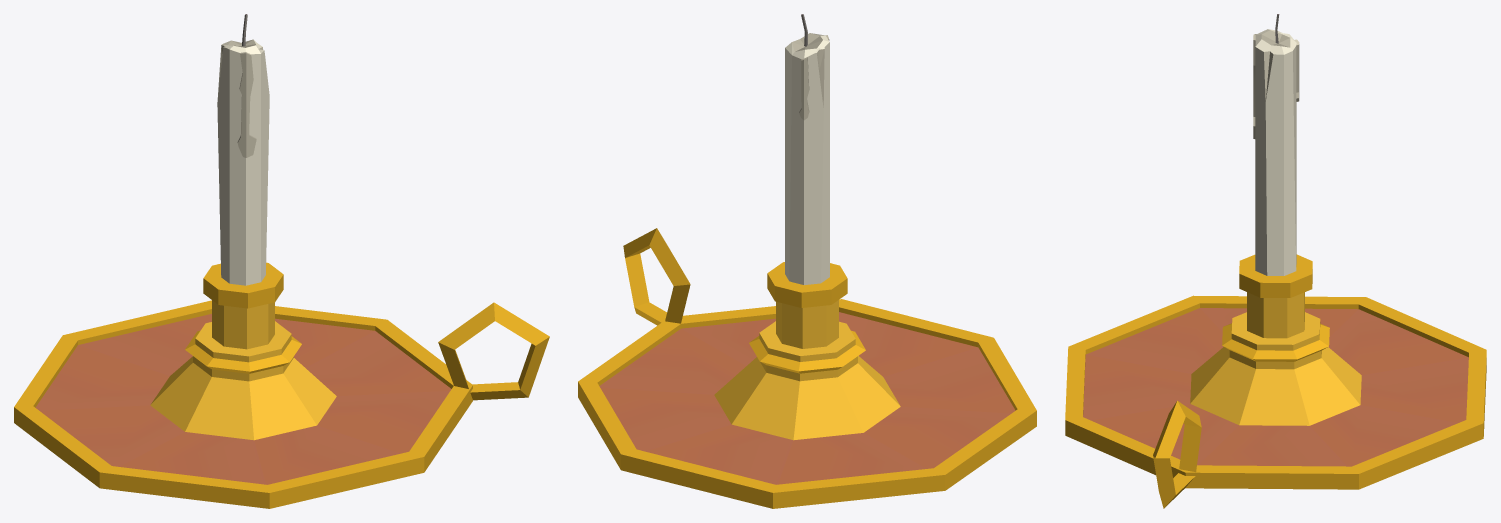
File: Candle_01.glb
3 renders of one model, left to right at view 1: azimuth 30°, elevation 25°; view 2: azimuth 150°, elevation 25°; view 3: azimuth 270°, elevation 25°, orthographic. The views are drawn at different scales.
Parts seen in each view (by area): view 1: Candle_01; view 2: Candle_01; view 3: Candle_01.
Part boxes in pixels (<box>): Candle_01: <box>14,14,549,508</box>; Candle_01: <box>578,14,1036,508</box>; Candle_01: <box>1065,14,1486,508</box>.
Size of what is drawn, in the model's own units: 0.5133 by 0.4501 by 0.4433.
1 material, 1 textured.
